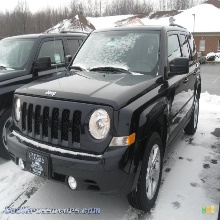no damage: (6, 26, 202, 212), (1, 27, 81, 104)
